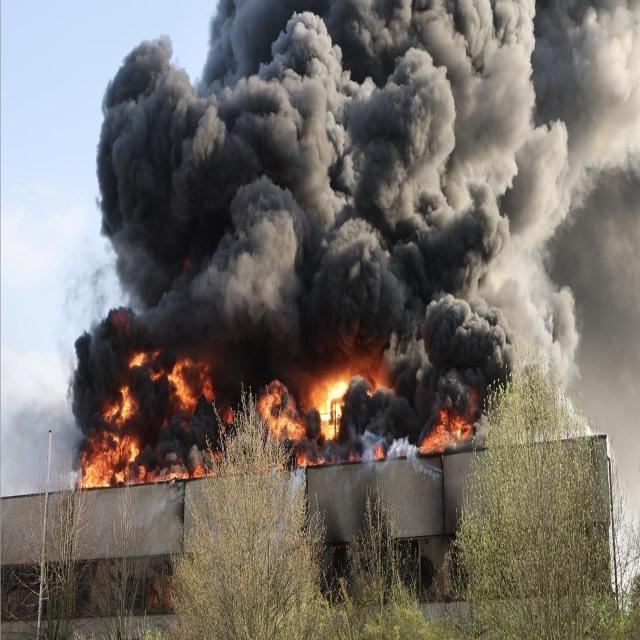Fire: (79, 386, 220, 489), (256, 380, 324, 468), (168, 358, 215, 412), (416, 412, 471, 454), (317, 378, 349, 442), (127, 350, 165, 382)
Smoke: (0, 0, 640, 499)
